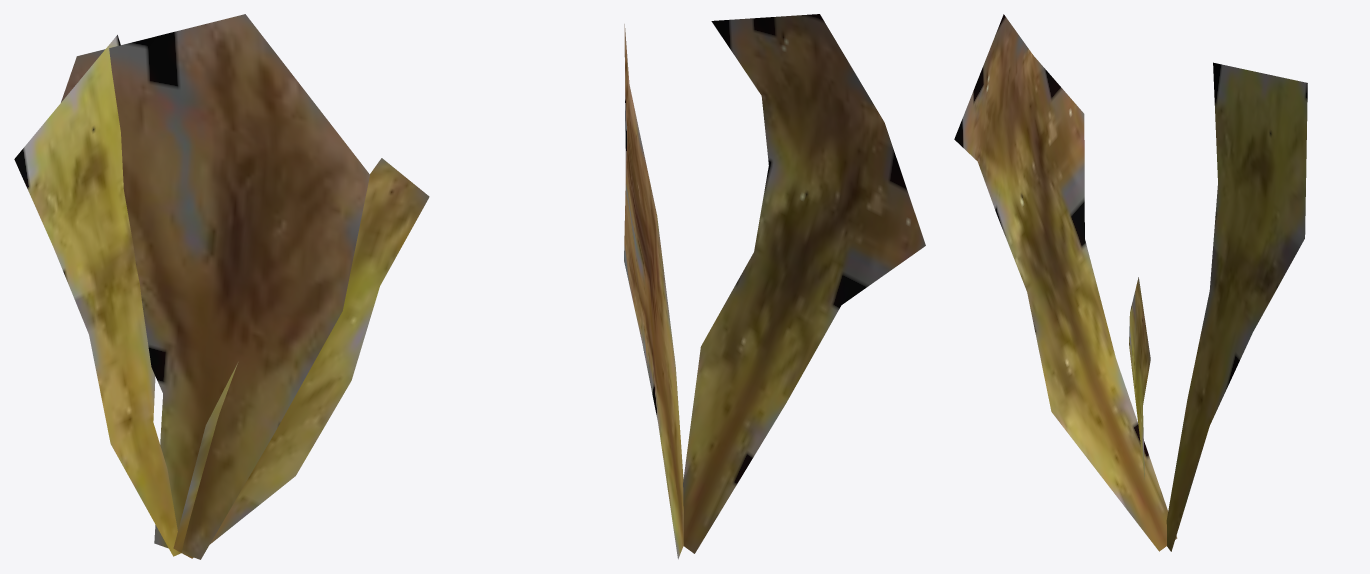
File: Seaweed_D4-transformed.glb
The picture shows the model from 3 angles, left to right: view 1: azimuth 30°, elevation 25°; view 2: azimuth 150°, elevation 25°; view 3: azimuth 270°, elevation 25°; orthographic projection. The views are drawn at different scales.
Parts seen in each view (by area): view 1: Seaweed_D4; view 2: Seaweed_D4; view 3: Seaweed_D4.
Boxes of the visible parts, left/top/right/bottom form: Seaweed_D4: left=14, top=14, right=429, bottom=559; Seaweed_D4: left=624, top=14, right=925, bottom=559; Seaweed_D4: left=954, top=14, right=1307, bottom=551.
Size of the model in its own units: 0.5872 by 0.6676 by 0.4544.
1 material, 1 textured.
